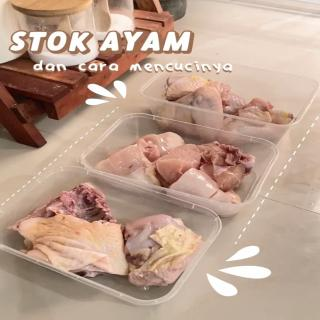Ayam: (6, 182, 207, 291), (93, 131, 259, 207), (165, 73, 296, 132)
